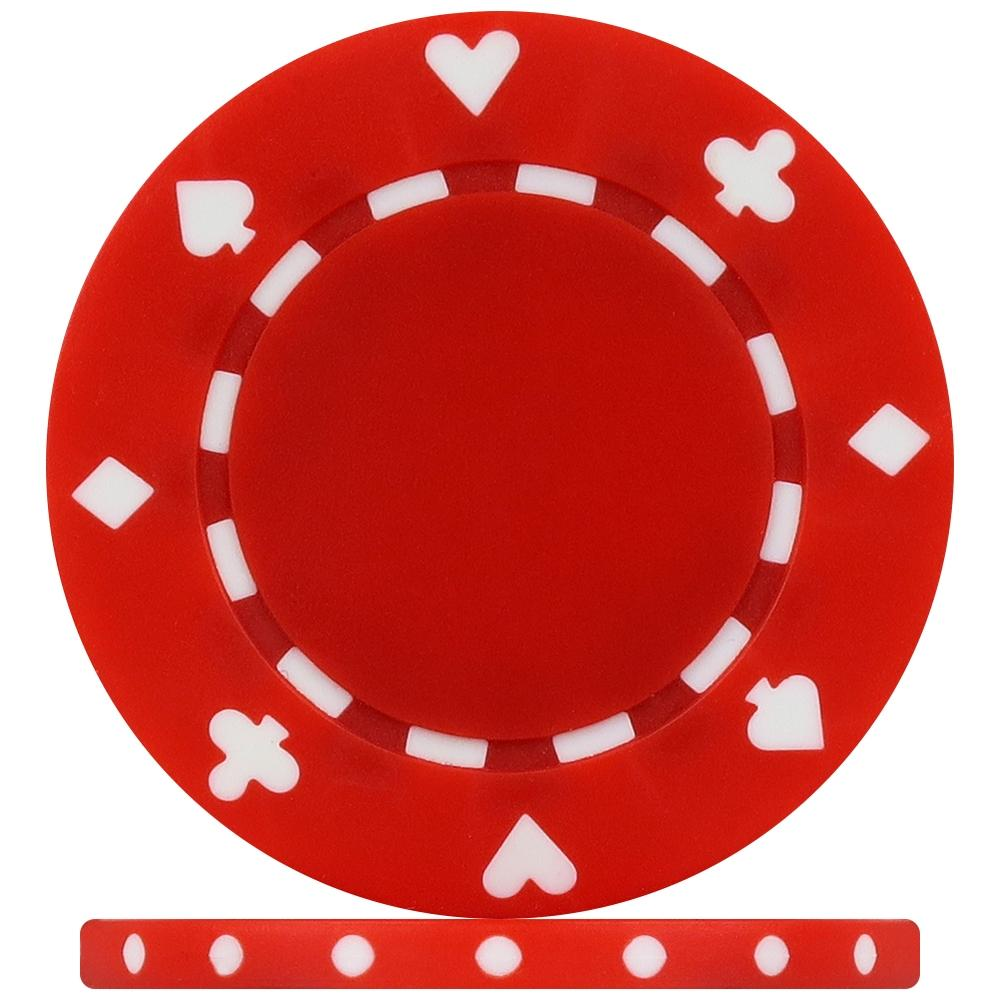chip-red: (49, 12, 951, 917), (80, 920, 920, 988)
